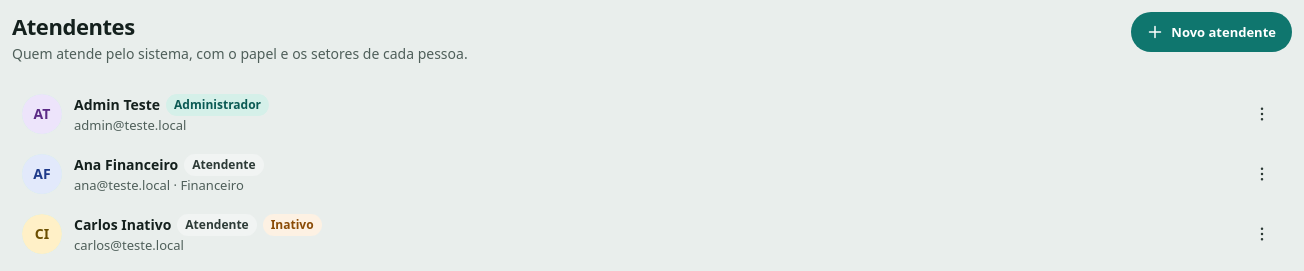
Test case: Settings › Atendentes › lists each person with e-mail and sectors, role and Inativo badges; nobody can deactivate themselves
Expected: the text "ana@teste.local · Financeiro" is shown, x1=74 y1=176 x2=244 y2=194
Expected: the text "Atendente" next to "Ana Financeiro" is shown, x1=192 y1=156 x2=256 y2=173
Click the button named "Opções do atendente Admin Teste".
click(1262, 114)  # box x1=1242 y1=94 x2=1282 y2=134
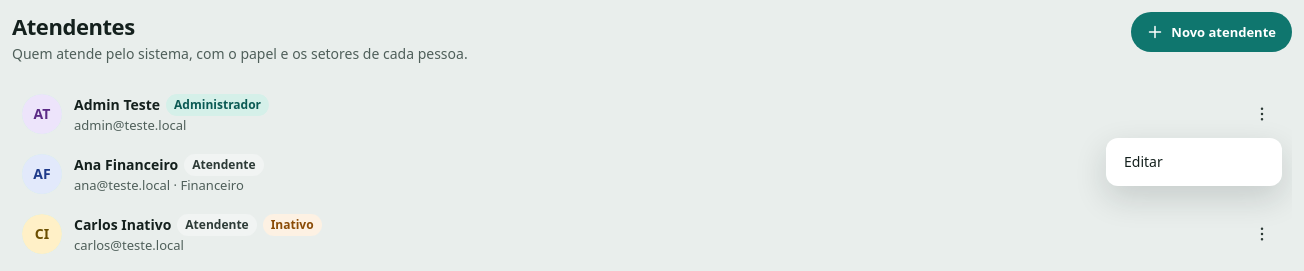
Expected: the button "Editar" is shown, x1=1112 y1=144 x2=1276 y2=180
